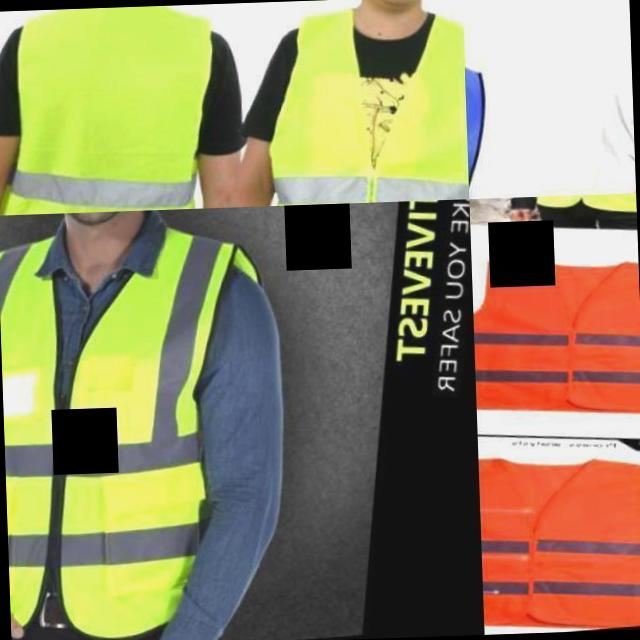vest: (0, 240, 230, 639), (0, 3, 219, 215), (262, 1, 469, 206)
